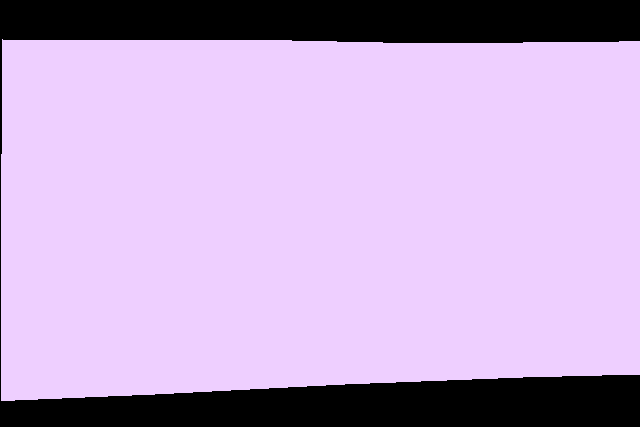Train: (1, 39, 640, 401)
